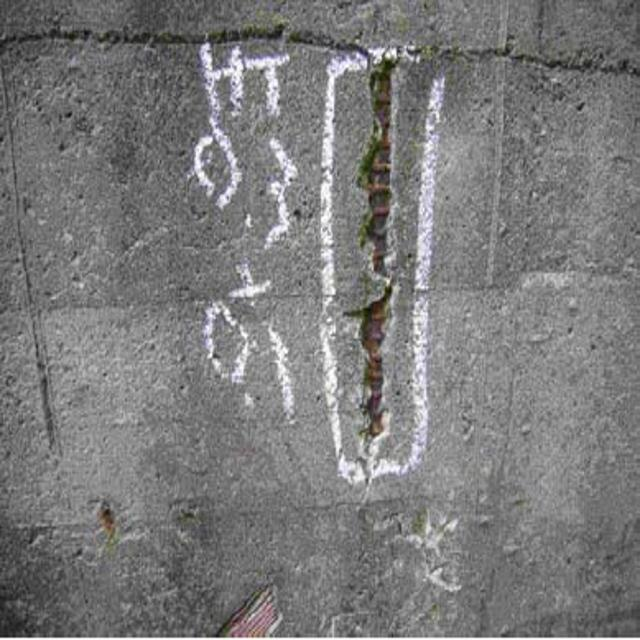spalling: (344, 46, 409, 463)
